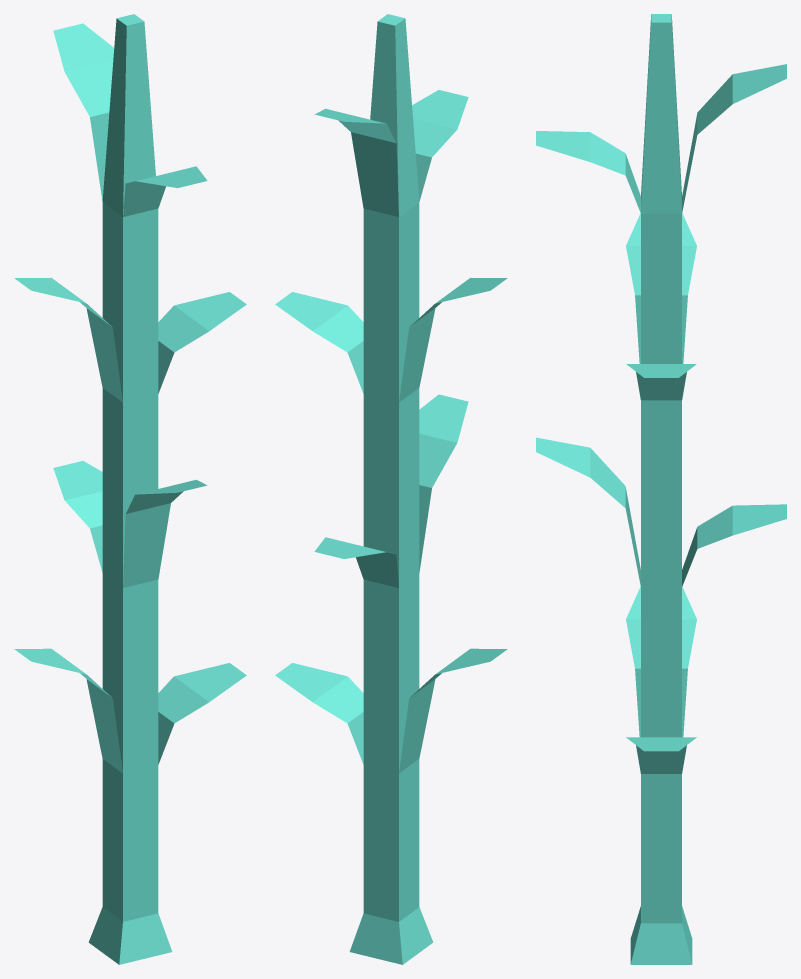
File: kn_crops_cornstagec.fbx
3 renders of one model, left to right at view 1: azimuth 30°, elevation 25°; view 2: azimuth 150°, elevation 25°; view 3: azimuth 270°, elevation 25°, orthographic.
Parts seen in each view (by area): view 1: kn_crops_cornstagec; view 2: kn_crops_cornstagec; view 3: kn_crops_cornstagec.
Part boxes in pixels (box(x1,y1,x2,y2)): kn_crops_cornstagec: box(14, 14, 246, 964); kn_crops_cornstagec: box(275, 14, 507, 964); kn_crops_cornstagec: box(536, 14, 786, 964).
Size of the model in its own units: 0.3894 by 1.6 by 0.3894.
Materials: 1 (1 with a texture image).
